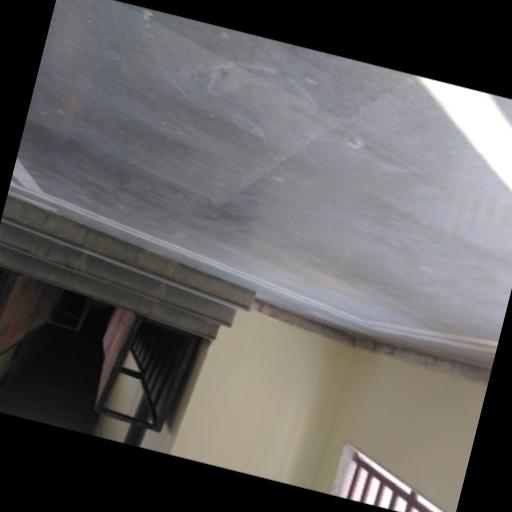stairs: (0, 195, 255, 339)
